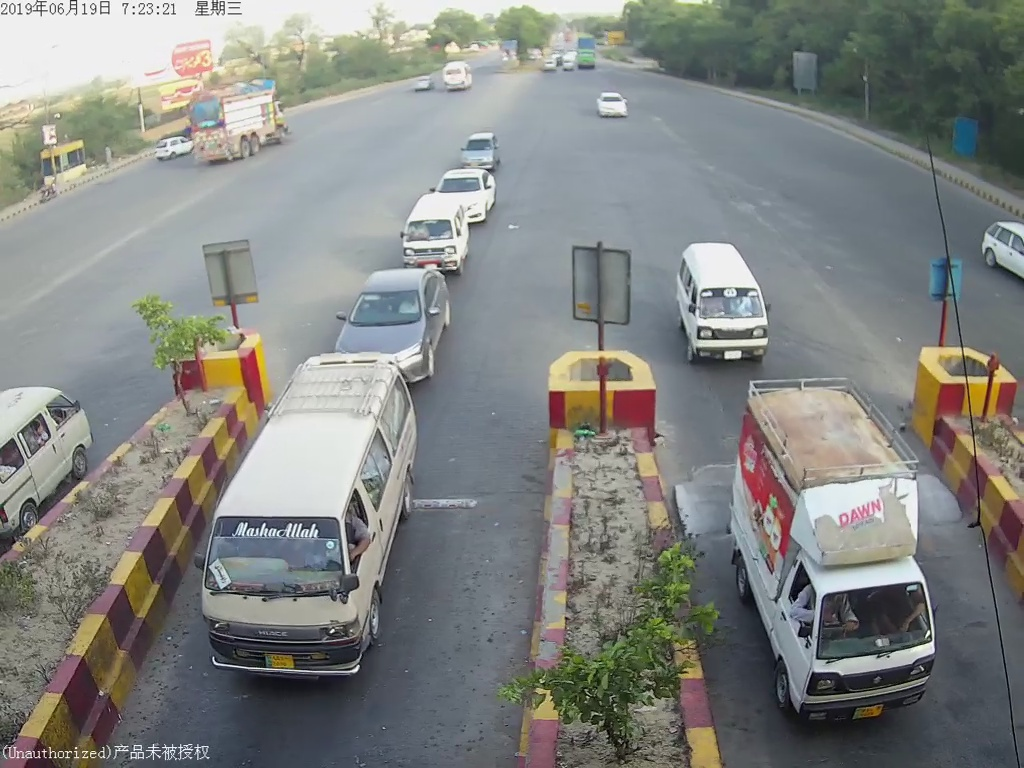Cat-1: (727, 379, 959, 733), (671, 240, 788, 369), (334, 274, 446, 347)
Cat-2: (198, 362, 414, 678)
